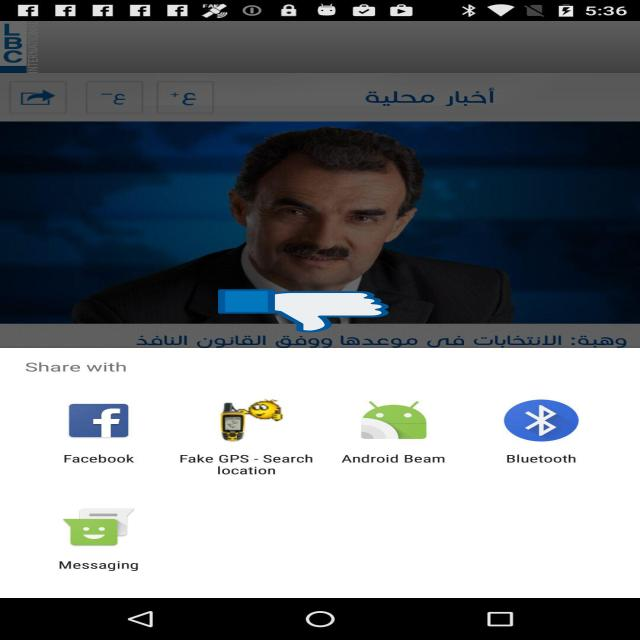obstruction: (218, 288, 389, 334)
